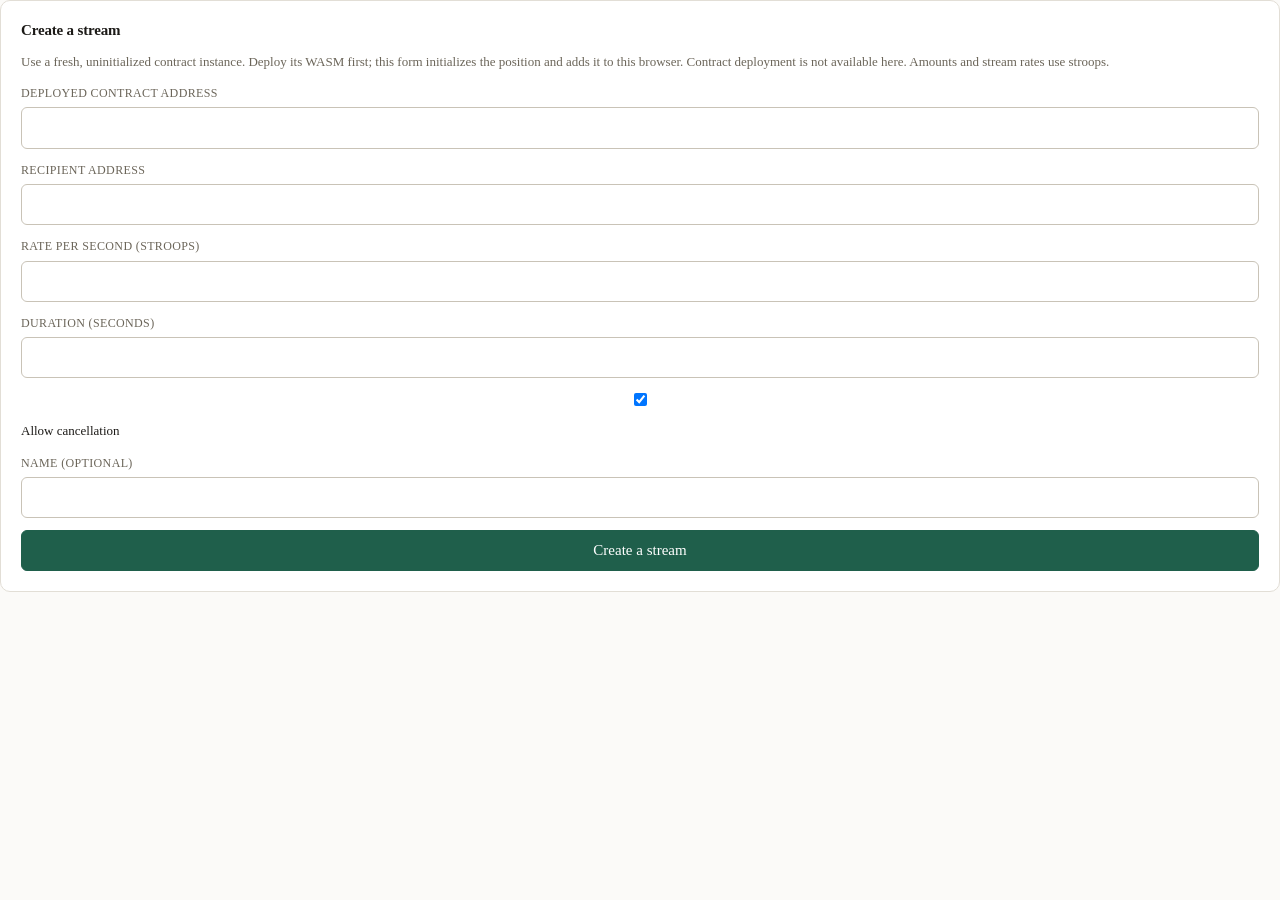
Test case: CreatePositionForm validation & inline errors (#293) › shows an inline error when stream rate has too many decimal places
Type "CDLZFC3SYJYDZT7K67VZ75HPJVIEUVNIXF47ZG2FB2RMQQVU2HHGCYSC" into the field labelled "Deployed contract address" at coordinates (640, 128), box top-left (21, 107), bottom-right (1259, 149)
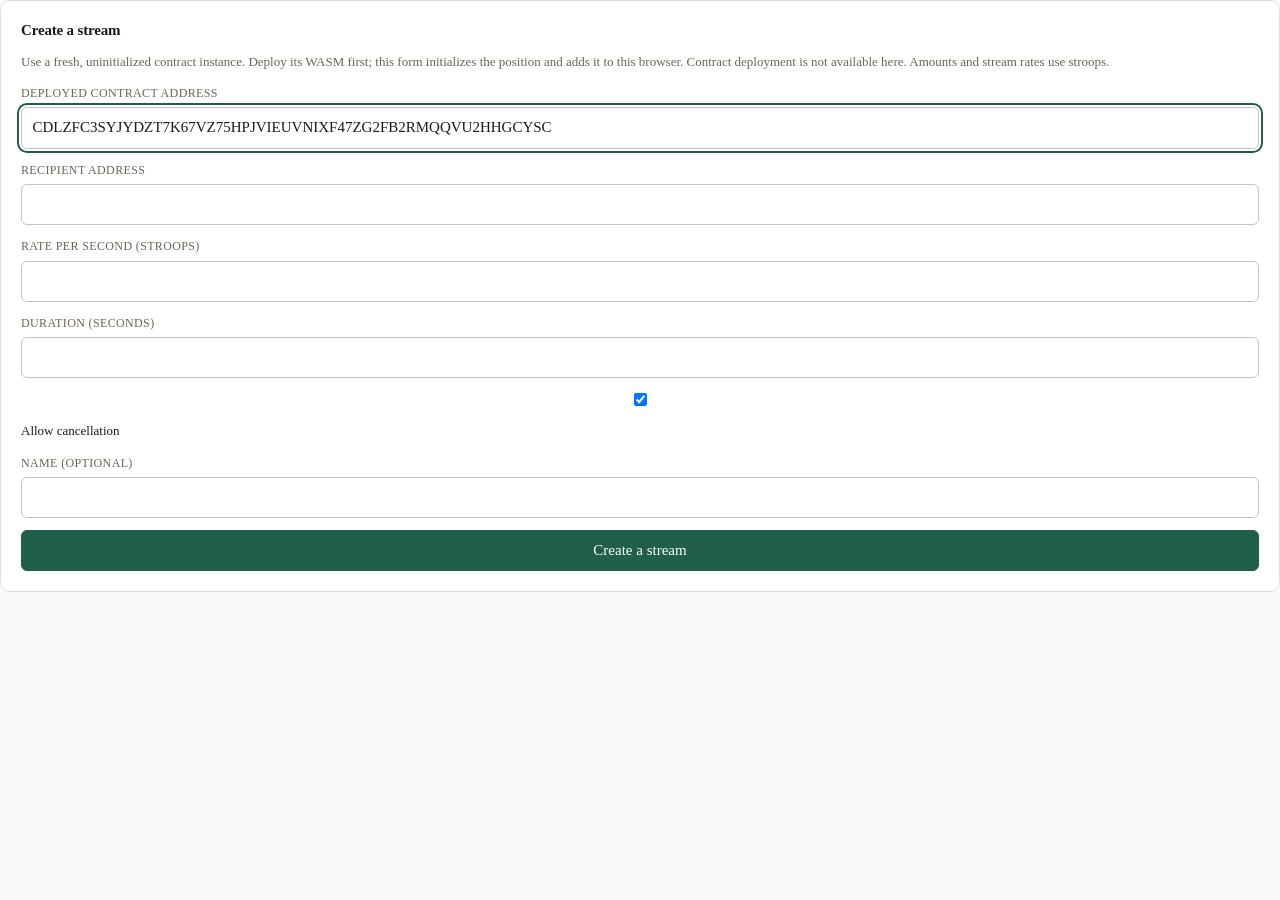
Type "GBRPYHIL2CI3WHZDTOOQFC6EB4KJJGUJSY3NXMOCLWEZDTWE47XLNZT7" into the field labelled "Recipient address" at coordinates (640, 205), box top-left (21, 184), bottom-right (1259, 225)
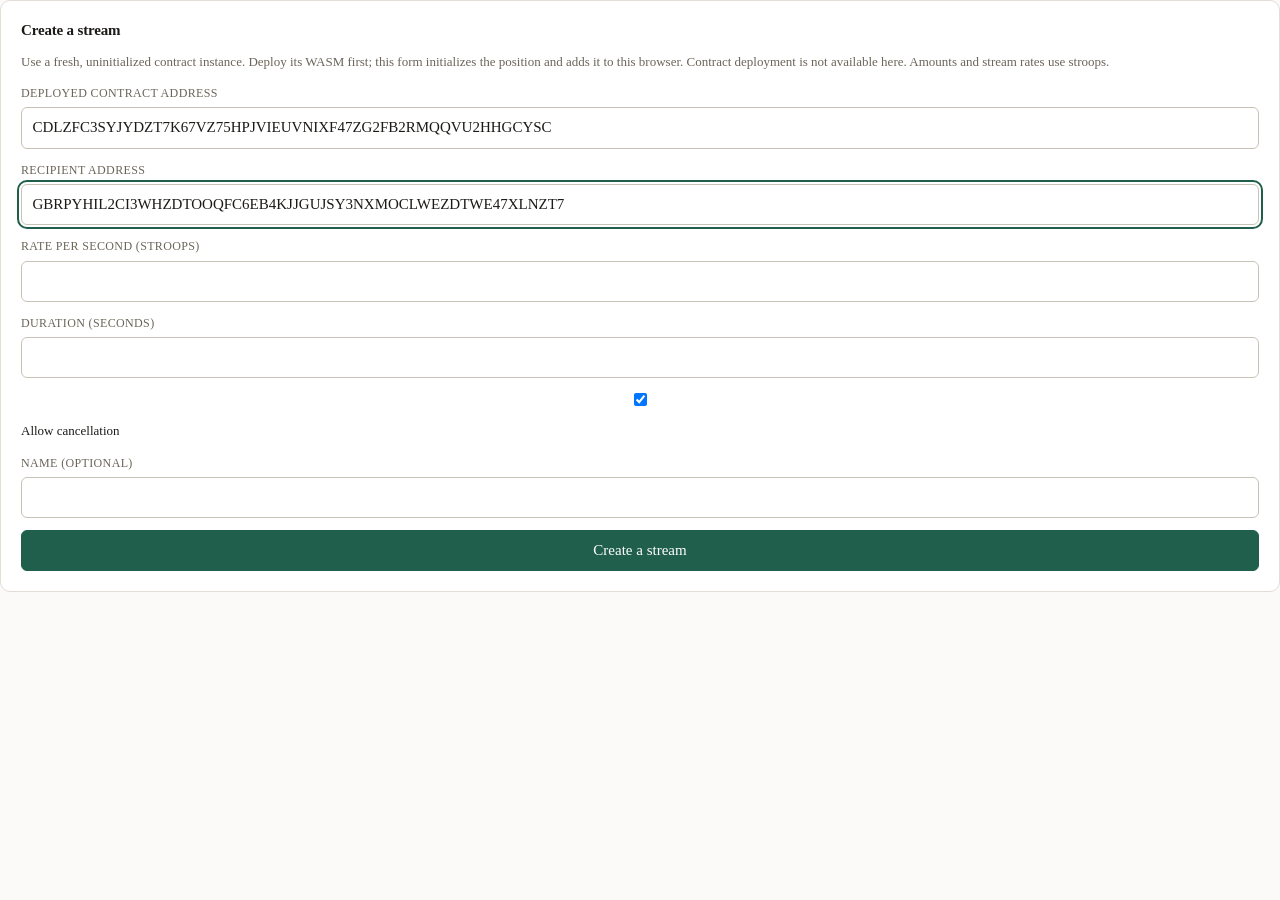
9 decimals: "1.123456789"
Type "1.123456789" into the field labelled "Rate per second (stroops)" at coordinates (640, 281), box top-left (21, 261), bottom-right (1259, 302)
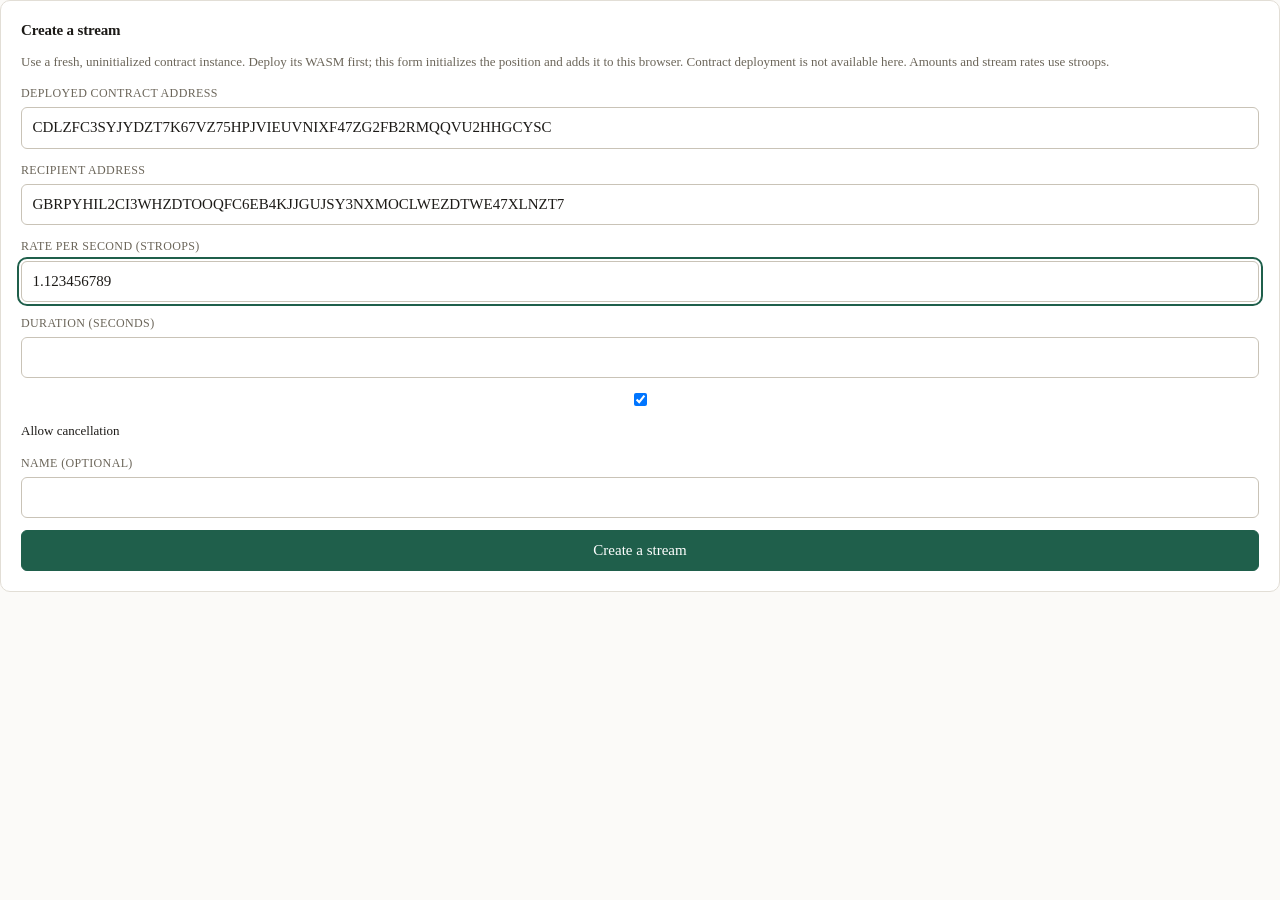
Type "86400" into the field labelled "Duration (seconds)" at coordinates (640, 358), box top-left (21, 337), bottom-right (1259, 378)
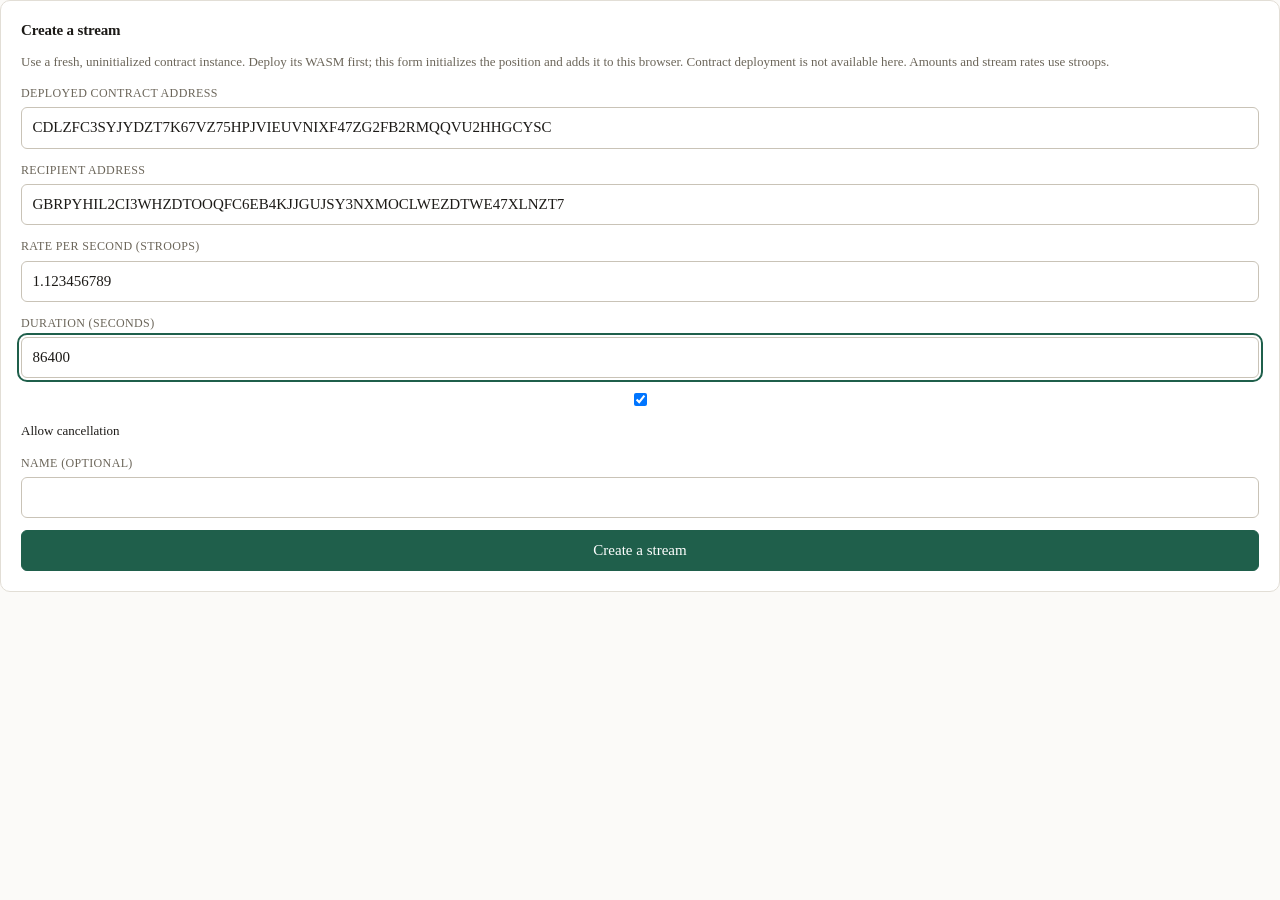
Click the button "Create a stream" at coordinates (640, 551), box top-left (21, 530), bottom-right (1259, 572)
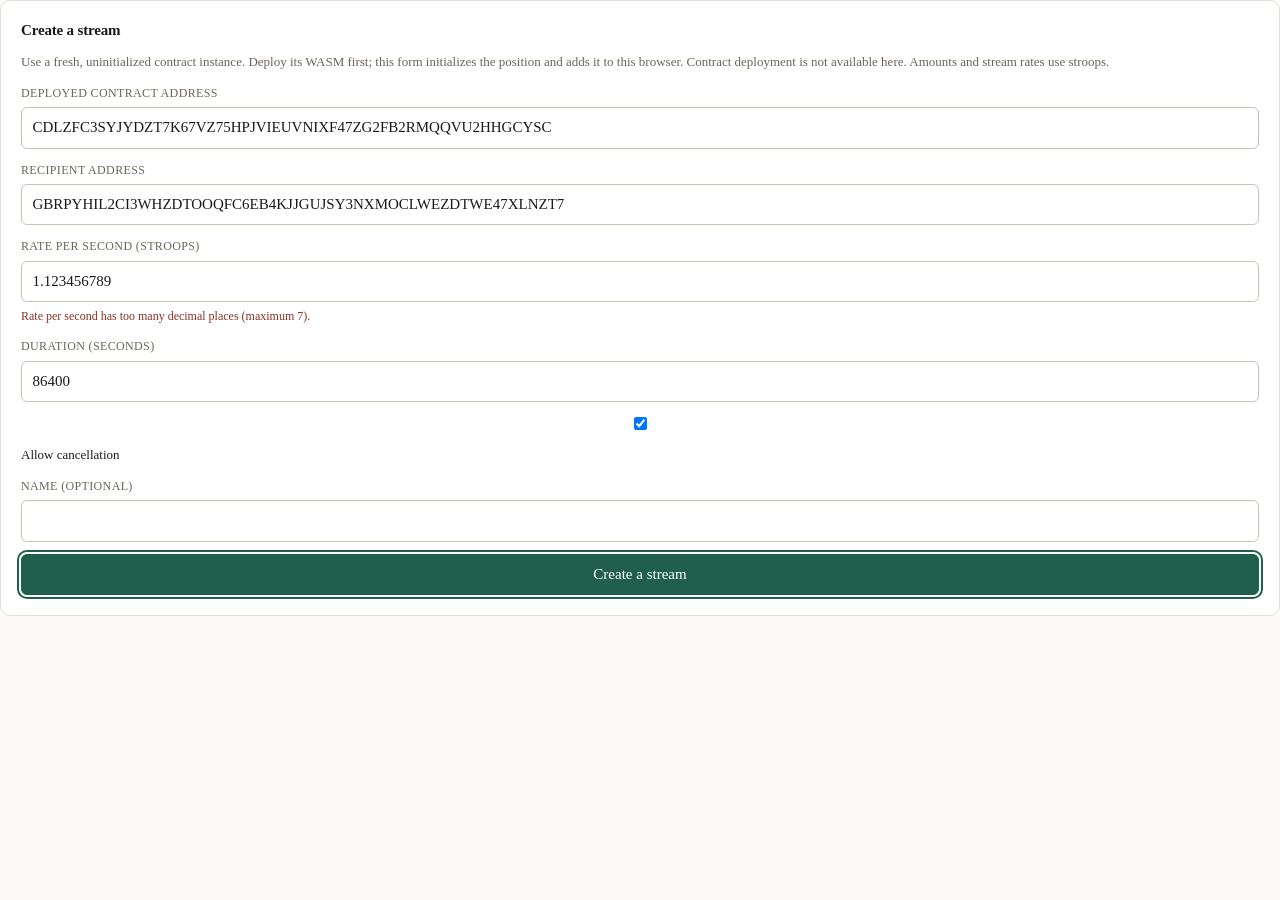
Check: the text "Rate per second has too many decimal places (maximum 7)." is shown, box top-left (21, 309), bottom-right (310, 323)
